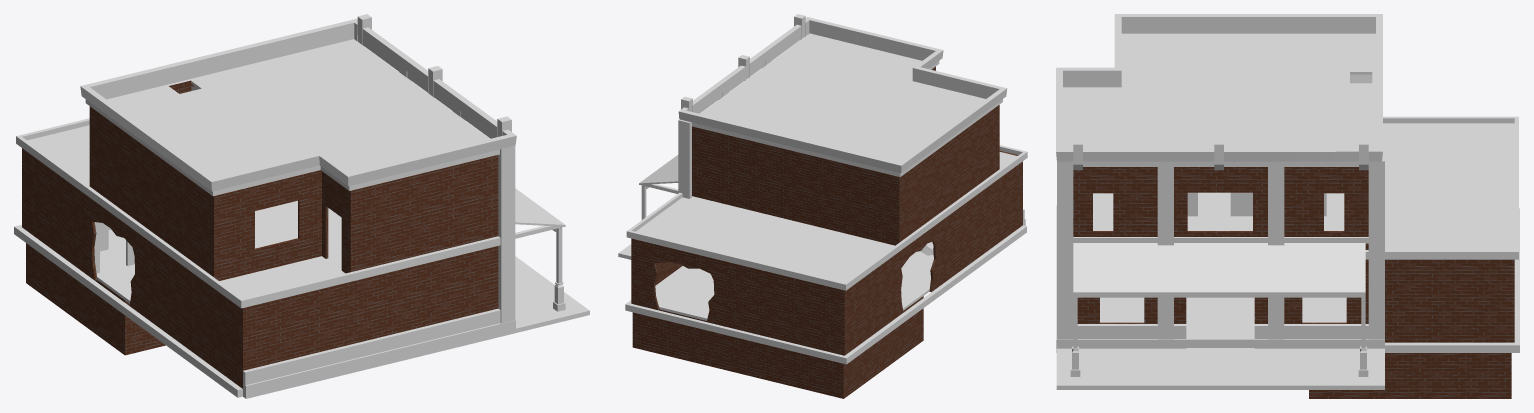
Rendered from BANK_BASECOPY.fbx.
3 renders of one model, left to right at view 1: azimuth 30°, elevation 25°; view 2: azimuth 150°, elevation 25°; view 3: azimuth 270°, elevation 25°, orthographic. The views are drawn at different scales.
Parts seen in each view (by area): view 1: Cube.050_low, Cube.066_low.001, Cube.011_low, Cube.058_low, Cube.071_low.001, Cube.059_low, Cube.019_low, Cube.022_low, Plane.009_low, Cube.060_high.002, Cube.087, Cube.061_low (+6 smaller); view 2: Cube.050_low, Cube.066_low.001, Cube.019_low, Cube.058_low, Cube.051_low, Cube.022_low, Cube.011_low, Cube.059_low, Cube.087, Cube.053_low, Cube.027_low, Cube.016_low (+4 smaller); view 3: Cube.066_low.001, Cube.051_low, Plane.010_low, Cube.050_low, Cube.061_low, Cube.058_low, Cube.019_low, Cube.053_low, Cube.060_high.002, Cube.016_low, Cube.071_low.001, Cube.085_low (+9 smaller).
Boxes of the visible parts, left/top/right/bottom form: Cube.050_low: left=89, top=80, right=498, bottom=280; Cube.066_low.001: left=107, top=39, right=489, bottom=177; Cube.011_low: left=89, top=198, right=498, bottom=388; Cube.058_low: left=80, top=18, right=516, bottom=196; Cube.071_low.001: left=243, top=308, right=515, bottom=398; Cube.059_low: left=16, top=118, right=500, bottom=308; Cube.019_low: left=22, top=148, right=89, bottom=276; Cube.022_low: left=26, top=243, right=165, bottom=355; Plane.009_low: left=219, top=200, right=345, bottom=298; Cube.060_high.002: left=354, top=35, right=515, bottom=323; Cube.087: left=14, top=224, right=242, bottom=397; Cube.061_low: left=515, top=256, right=589, bottom=332; Cube.050_low: left=692, top=66, right=999, bottom=245; Cube.066_low.001: left=700, top=33, right=985, bottom=162; Cube.019_low: left=631, top=238, right=899, bottom=355; Cube.058_low: left=678, top=17, right=1007, bottom=176; Cube.051_low: left=636, top=196, right=894, bottom=282; Cube.022_low: left=710, top=296, right=923, bottom=398; Cube.011_low: left=899, top=150, right=1022, bottom=315; Cube.059_low: left=626, top=145, right=1027, bottom=290; Cube.087: left=625, top=225, right=1026, bottom=364; Cube.053_low: left=632, top=309, right=710, bottom=366; Cube.027_low: left=655, top=266, right=714, bottom=320; Cube.016_low: left=901, top=251, right=933, bottom=310; Cube.066_low.001: left=1063, top=33, right=1375, bottom=148; Cube.051_low: left=1382, top=123, right=1514, bottom=249; Plane.010_low: left=1073, top=243, right=1365, bottom=294; Cube.050_low: left=1073, top=167, right=1368, bottom=249; Cube.061_low: left=1056, top=348, right=1384, bottom=389; Cube.058_low: left=1056, top=14, right=1382, bottom=166; Cube.019_low: left=1385, top=259, right=1514, bottom=342; Cube.053_low: left=1309, top=353, right=1511, bottom=398; Cube.060_high.002: left=1057, top=154, right=1384, bottom=339; Cube.016_low: left=1100, top=297, right=1346, bottom=347; Cube.071_low.001: left=1056, top=205, right=1384, bottom=352; Cube.085_low: left=1157, top=161, right=1284, bottom=339.
Size of the model in its own units: 1386 by 961 by 1558.
